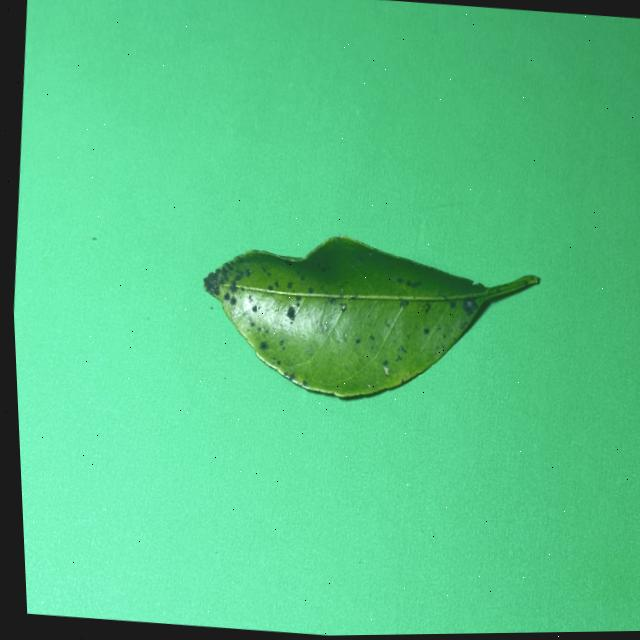sooty_mold: (204, 235, 538, 396)
